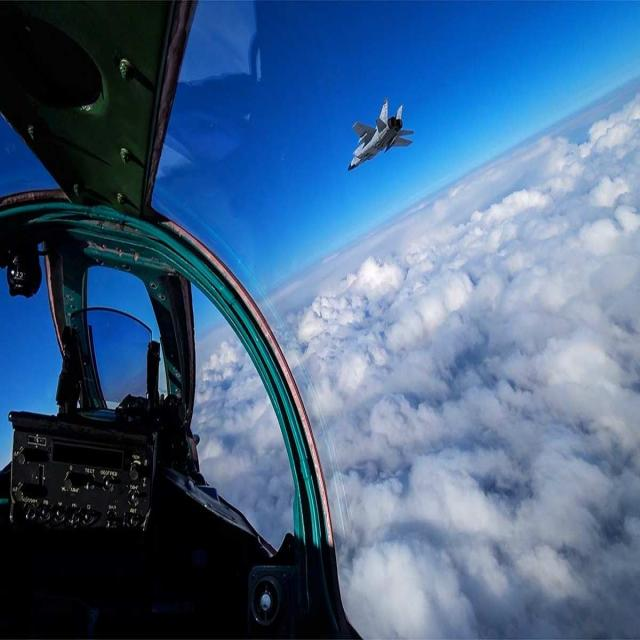MIL_Plane: (348, 98, 414, 171)
